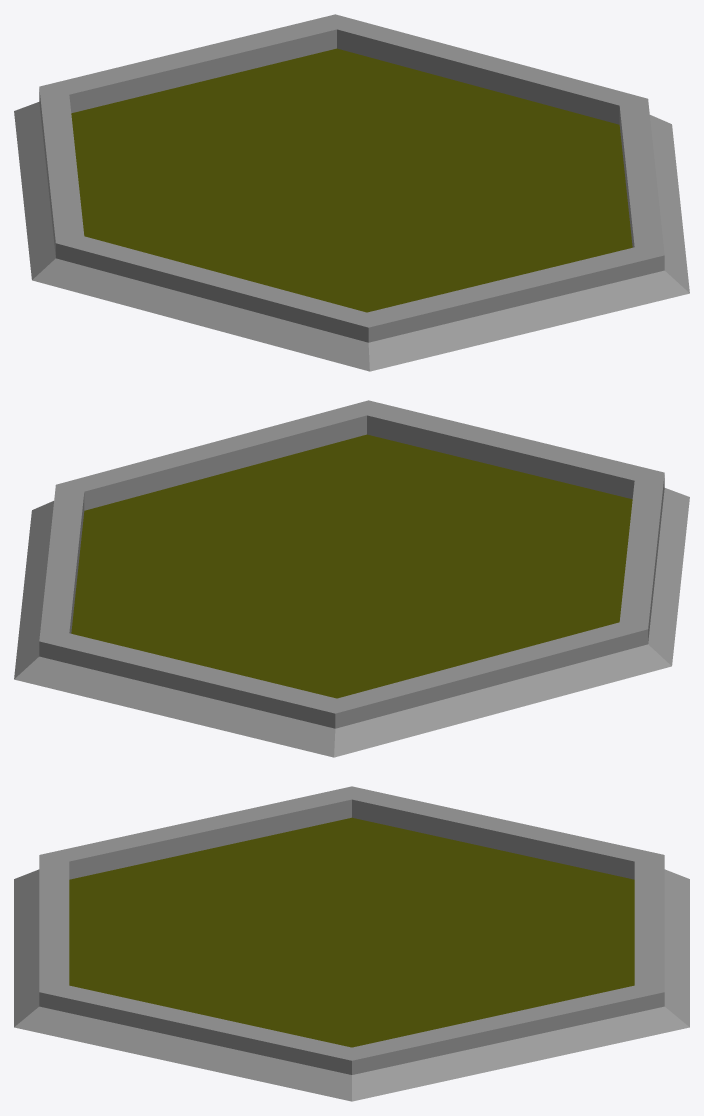
Rendered from casilla_1.FBX.
The picture shows the model from 3 angles, top to bottom: view 1: azimuth 30°, elevation 25°; view 2: azimuth 150°, elevation 25°; view 3: azimuth 270°, elevation 25°; orthographic projection. The views are drawn at different scales.
Parts seen in each view (by area): view 1: NGon001; view 2: NGon001; view 3: NGon001.
Boxes of the visible parts, <box> form: NGon001: <box>14,14,689,371</box>; NGon001: <box>14,400,689,757</box>; NGon001: <box>14,786,689,1101</box>.
Size of the model in its own units: 395 by 18.49 by 381.
